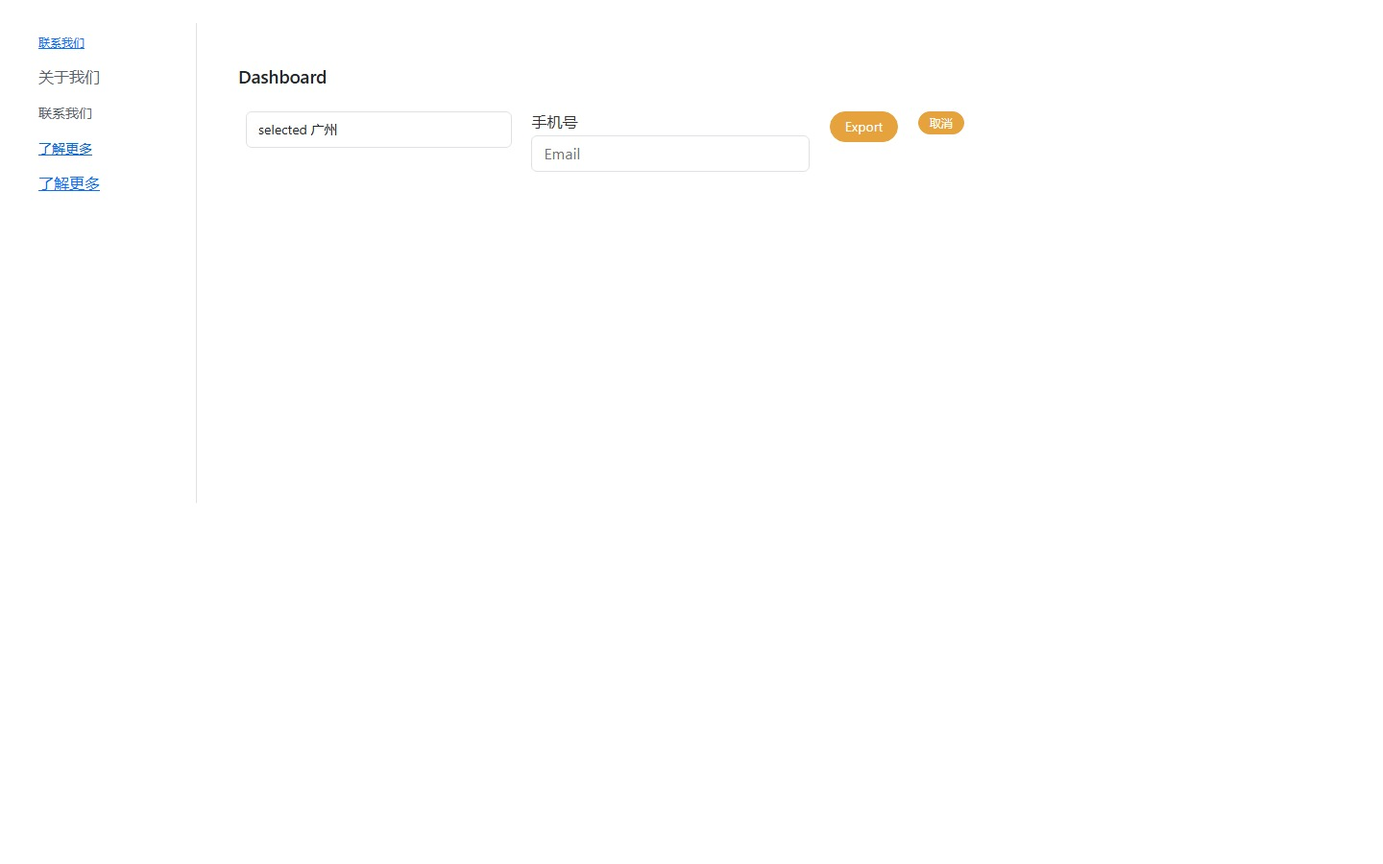button: (830, 111, 898, 142), (918, 111, 964, 134)
input: (531, 135, 810, 172)
link: (38, 66, 100, 86), (38, 173, 100, 193), (38, 104, 92, 122), (38, 139, 92, 157), (38, 35, 85, 50)
select: (246, 111, 512, 148)
